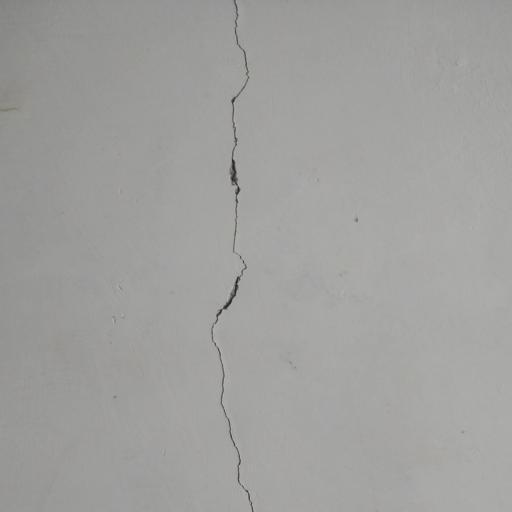major_crack: (204, 0, 281, 512)
